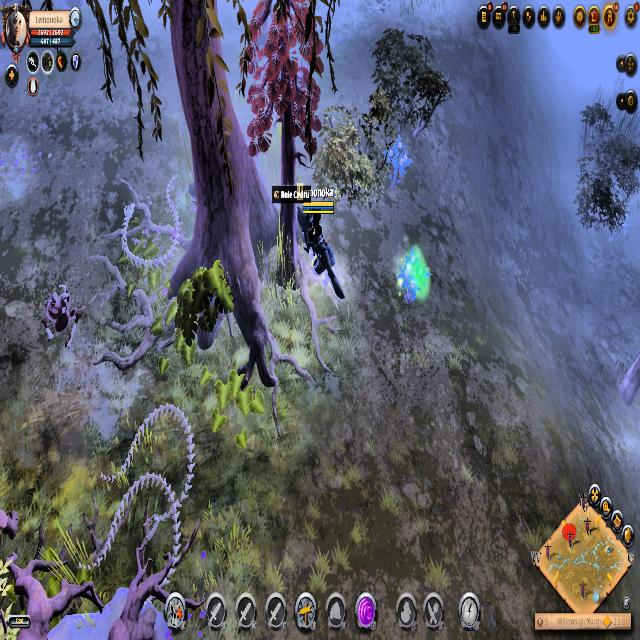fiber tier 4: (397, 249, 430, 311), (385, 135, 414, 190)
